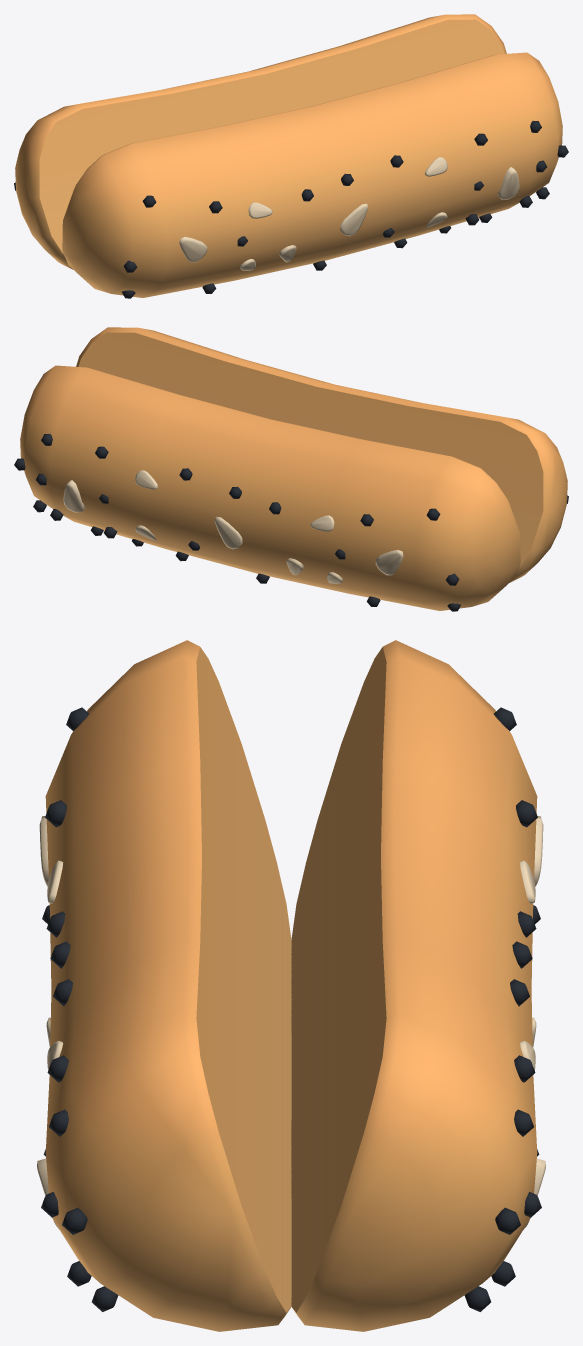
File: HotDog_bun_with_seeds.fbx
3 views of the same model, one above another, from view 1: azimuth 30°, elevation 25°; view 2: azimuth 150°, elevation 25°; view 3: azimuth 270°, elevation 25° (orthographic). The views are drawn at different scales.
Visible parts, largest first — view 1: HotDog_bun_with_seeds; view 2: HotDog_bun_with_seeds; view 3: HotDog_bun_with_seeds.
Boxes of the visible parts, x1=… form: HotDog_bun_with_seeds: x1=14, y1=14, x2=568, y2=298; HotDog_bun_with_seeds: x1=14, y1=327, x2=568, y2=611; HotDog_bun_with_seeds: x1=37, y1=640, x2=545, y2=1331.
Bounding box in the file's own units: 153 × 69.97 × 49.72.
